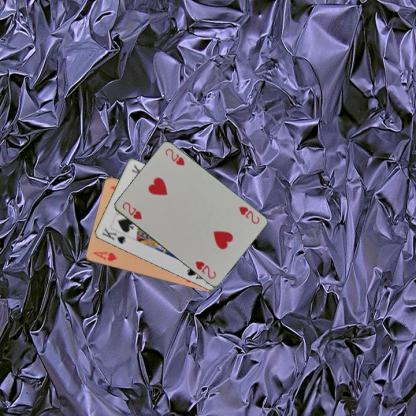2h: (236, 204, 260, 226), (119, 199, 142, 221)
Ah: (91, 249, 118, 262)
Ks: (99, 225, 126, 245)
